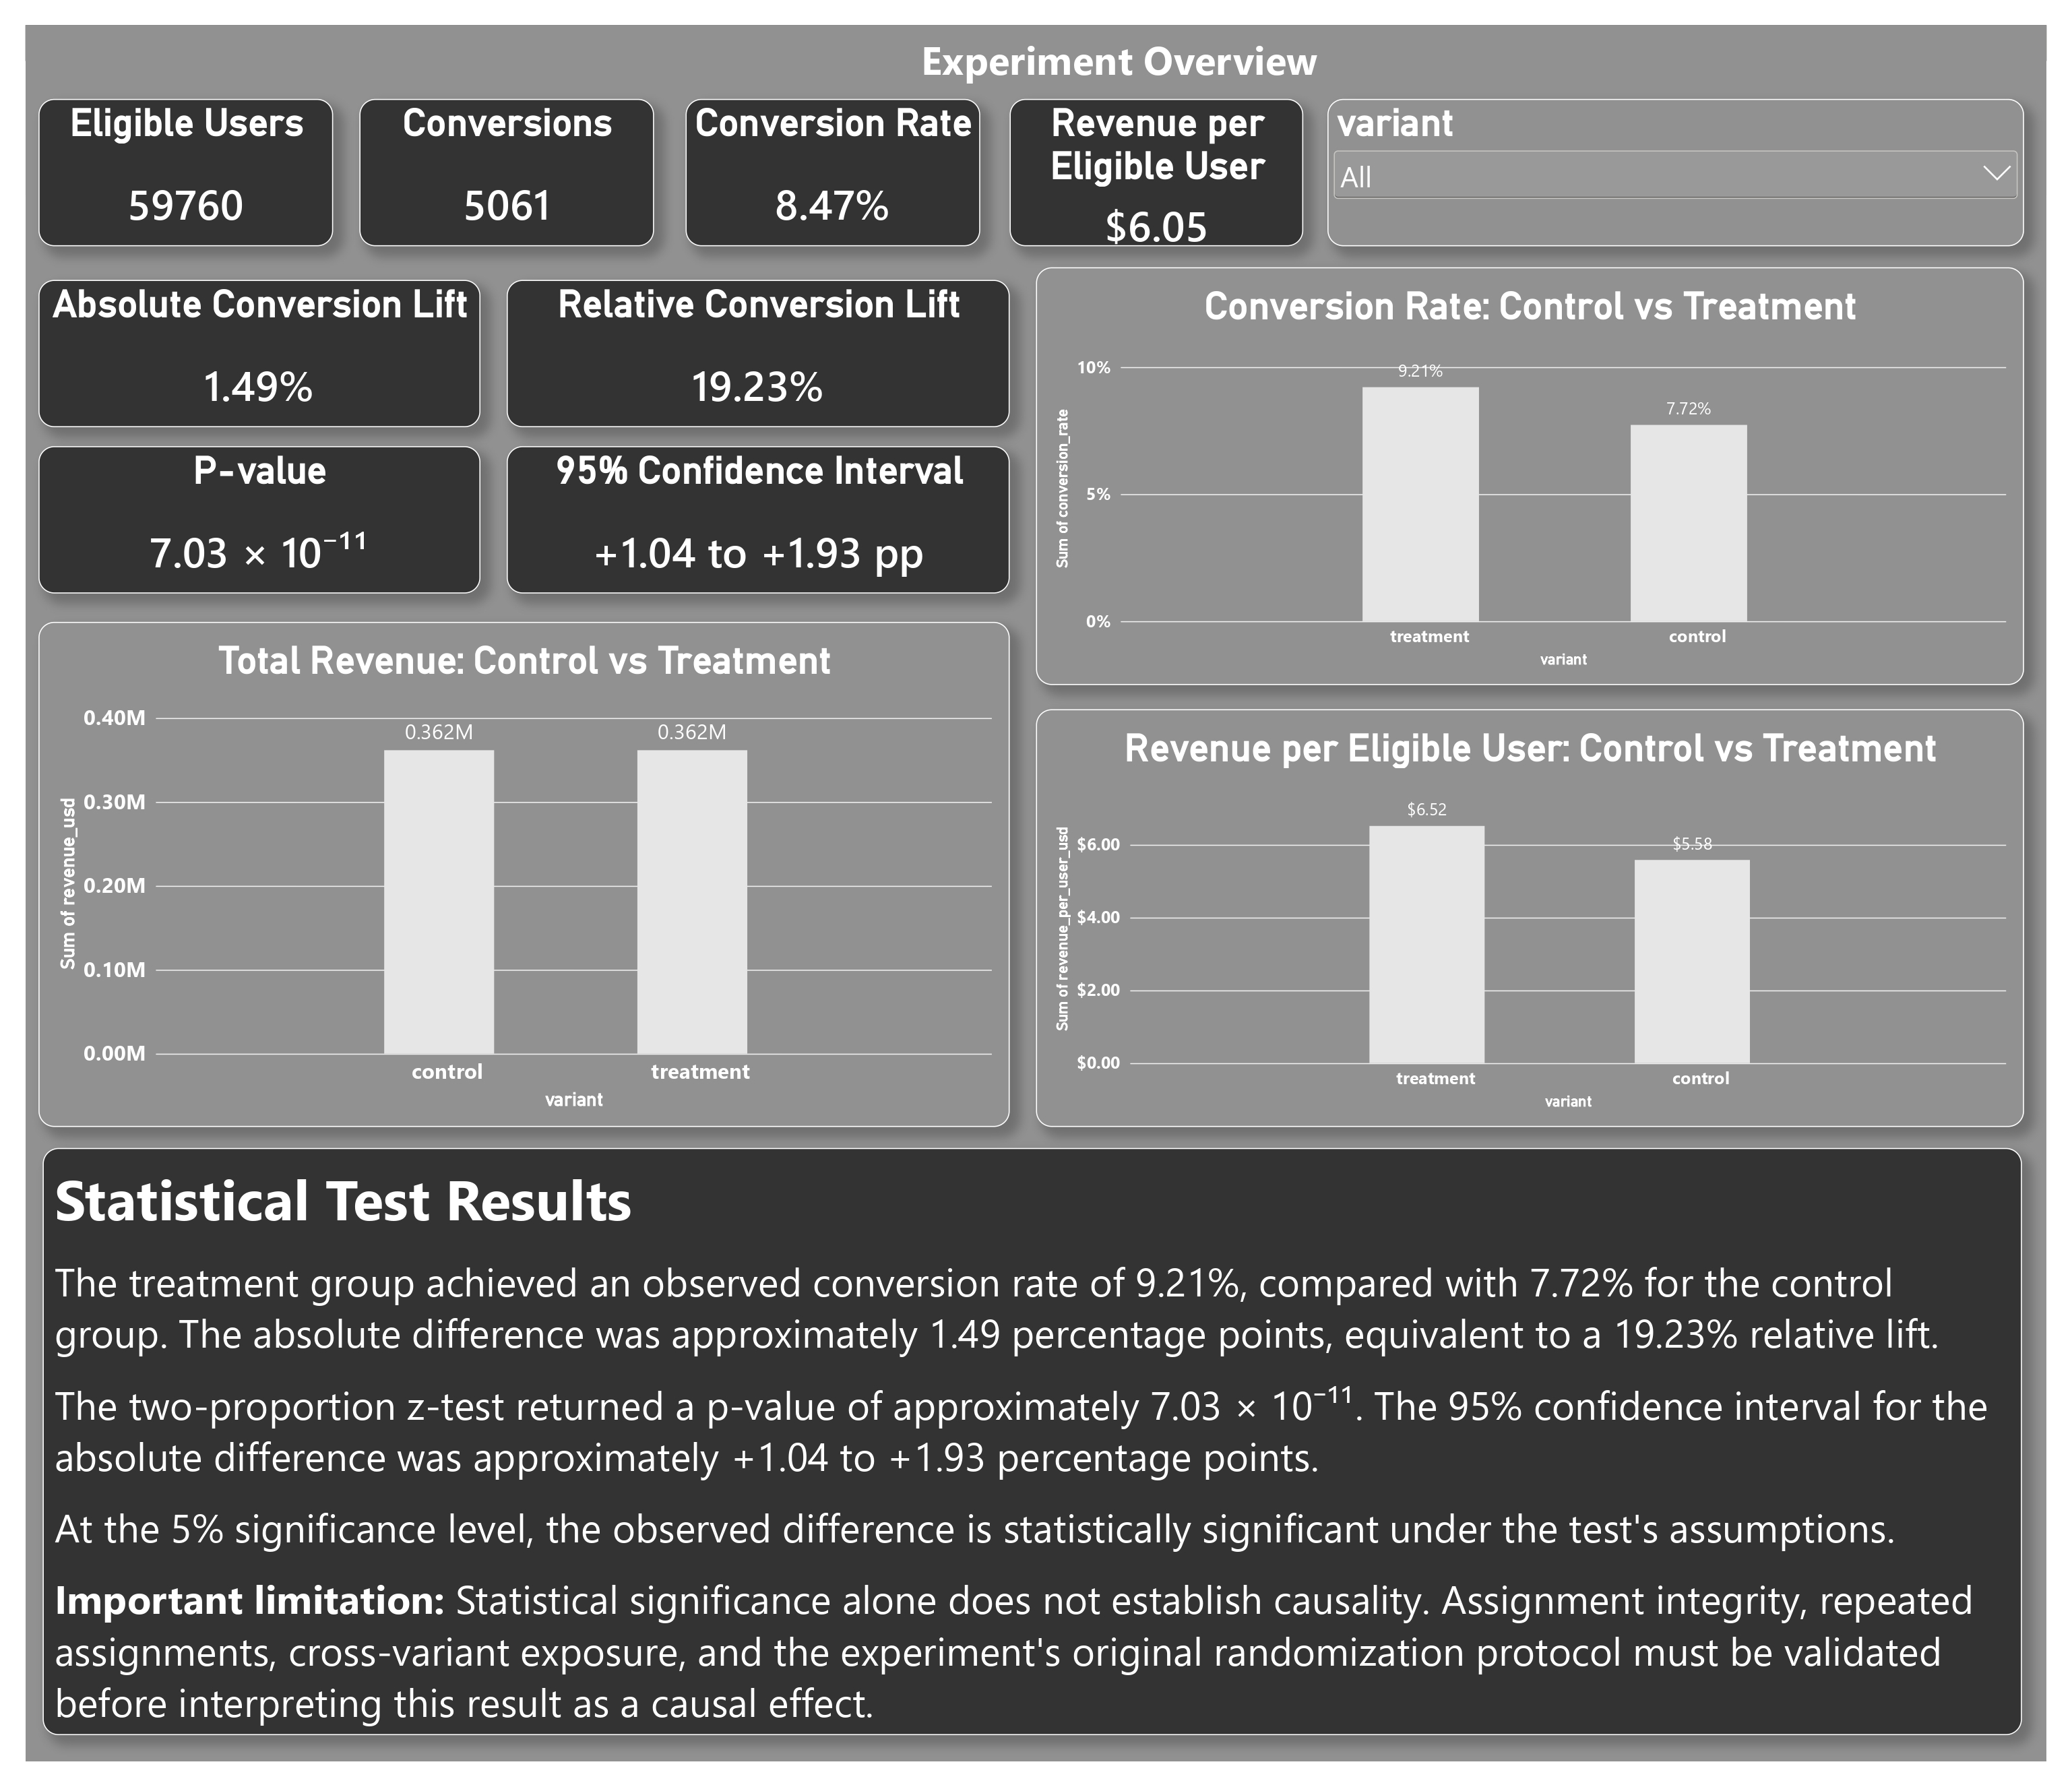

This screenshot's page, from the dashboard's own definition file:
{"tool":"powerbi","page":{"name":"Experiment Overview","canvas":[1920,1650],"ordinal":0},"visuals":[{"type":"cardVisual","title":"Eligible Users","fields":{"Data":["User Metrics.Total Eligible Users"]},"box":[12.5,70,279.9,139.9],"z":0},{"type":"textbox","box":[842.1,7.5,394.8,62.5],"z":1000},{"type":"cardVisual","title":"Conversions","fields":{"Data":["User Metrics.Total Conversions"]},"box":[317.4,70,279.9,139.9],"z":2000},{"type":"cardVisual","title":"Conversion Rate","fields":{"Data":["User Metrics.Conversion Rate"]},"box":[627.2,70,279.9,139.9],"z":3000},{"type":"cardVisual","title":"Revenue per Eligible User","fields":{"Data":["User Metrics.Revenue per Eligible User"]},"box":[934.6,70,279.9,139.9],"z":4000},{"type":"clusteredColumnChart","title":"Conversion Rate: Control vs Treatment","fields":{"Category":["Variant Summary.variant"],"Y":["Sum(Variant Summary.conversion_rate)"]},"box":[959.6,229.9,939.6,397.3],"z":5000},{"type":"clusteredColumnChart","title":"Revenue per Eligible User: Control vs Treatment","fields":{"Category":["Variant Summary.variant"],"Y":["Sum(Variant Summary.revenue_per_user_usd)"]},"box":[959.6,649.7,939.6,397.3],"z":6000},{"type":"clusteredColumnChart","title":"Total Revenue: Control vs Treatment","fields":{"Category":["Variant Summary.variant"],"Y":["Sum(User Metrics.revenue_usd)"]},"box":[12.5,567.3,922.1,479.8],"z":7000},{"type":"slicer","fields":{"Values":["DimVariant.variant"]},"box":[1237,70,662.2,139.9],"z":8000},{"type":"cardVisual","title":"Absolute Conversion Lift","fields":{"Data":["DimVariant.Absolute Conversion Lift"]},"box":[12.5,242.4,419.8,139.9],"z":9000},{"type":"cardVisual","title":"Relative Conversion Lift","fields":{"Data":["DimVariant.Relative Conversion Lift"]},"box":[457.3,242.4,477.3,139.9],"z":10000},{"type":"cardVisual","title":"P-value","fields":{"Data":["DimVariant.P-Value Display"]},"box":[12.5,399.8,419.8,139.9],"z":11000},{"type":"cardVisual","title":"95% Confidence Interval","fields":{"Data":["DimVariant.Confidence Interval Display"]},"box":[457.3,399.8,477.3,139.9],"z":12000},{"type":"textbox","box":[16.4,1066.8,1880.9,558],"z":13000}]}

Visuals, with their boxes on the page's 1920x1650 design canvas (x1, y1, x2, y2). These are canvas units, not pixel positions in the 2072x1787 screenshot, which may show the page scaled, cropped or inside an application window:
"Eligible Users" cardVisual: select_region(12, 70, 292, 210)
textbox: select_region(842, 8, 1237, 70)
"Conversions" cardVisual: select_region(317, 70, 597, 210)
"Conversion Rate" cardVisual: select_region(627, 70, 907, 210)
"Revenue per Eligible User" cardVisual: select_region(935, 70, 1214, 210)
"Conversion Rate: Control vs Treatment" clusteredColumnChart: select_region(960, 230, 1899, 627)
"Revenue per Eligible User: Control vs Treatment" clusteredColumnChart: select_region(960, 650, 1899, 1047)
"Total Revenue: Control vs Treatment" clusteredColumnChart: select_region(12, 567, 935, 1047)
slicer - DimVariant.variant: select_region(1237, 70, 1899, 210)
"Absolute Conversion Lift" cardVisual: select_region(12, 242, 432, 382)
"Relative Conversion Lift" cardVisual: select_region(457, 242, 935, 382)
"P-value" cardVisual: select_region(12, 400, 432, 540)
"95% Confidence Interval" cardVisual: select_region(457, 400, 935, 540)
textbox: select_region(16, 1067, 1897, 1625)
